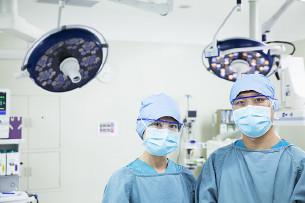OK: (234, 95, 275, 136), (144, 121, 182, 156)
